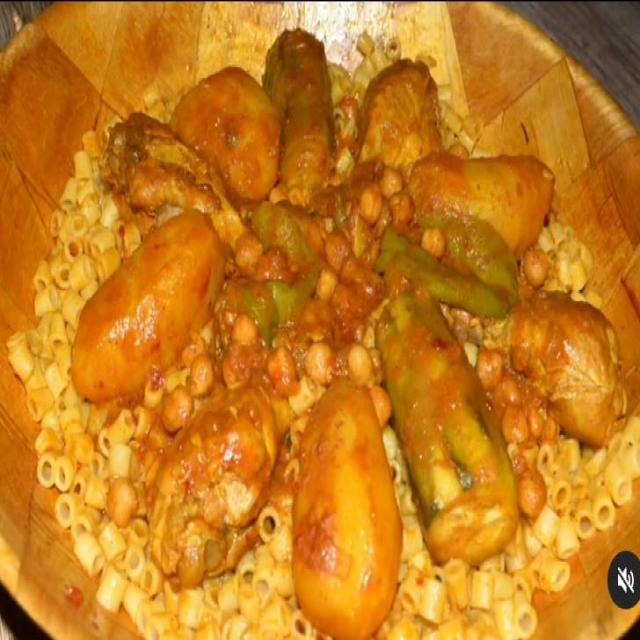Pasta: (61, 48, 630, 618)
